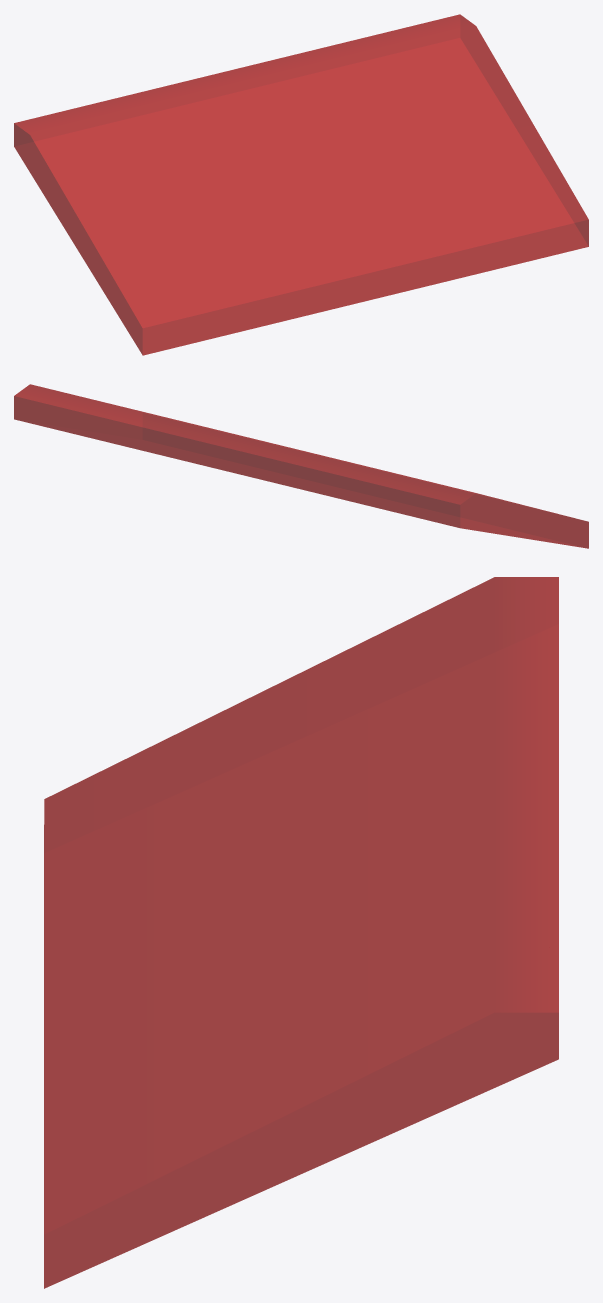
Rendered from SM_Env_Dwarf_Stairs_Half_01_Collision.fbx.
The picture shows the model from 3 angles, top to bottom: view 1: azimuth 30°, elevation 25°; view 2: azimuth 150°, elevation 25°; view 3: azimuth 270°, elevation 25°; orthographic projection. The views are drawn at different scales.
Parts seen in each view (by area): view 1: SM_Env_Dwarf_Stairs_Half_01_Collision; view 2: SM_Env_Dwarf_Stairs_Half_01_Collision; view 3: SM_Env_Dwarf_Stairs_Half_01_Collision.
Part boxes in pixels (<box>): SM_Env_Dwarf_Stairs_Half_01_Collision: <box>14,14,588,355</box>; SM_Env_Dwarf_Stairs_Half_01_Collision: <box>14,384,588,548</box>; SM_Env_Dwarf_Stairs_Half_01_Collision: <box>44,577,558,1288</box>.
Bounding box in the file's own units: 500 × 148 × 250.
